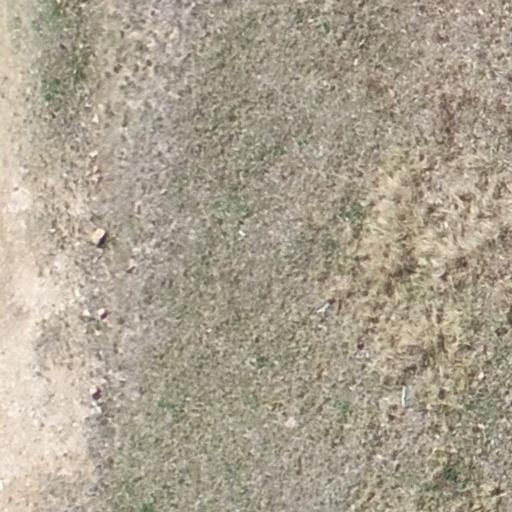stone: (94, 305, 108, 321), (93, 224, 105, 242), (78, 306, 92, 319), (90, 388, 100, 399)
